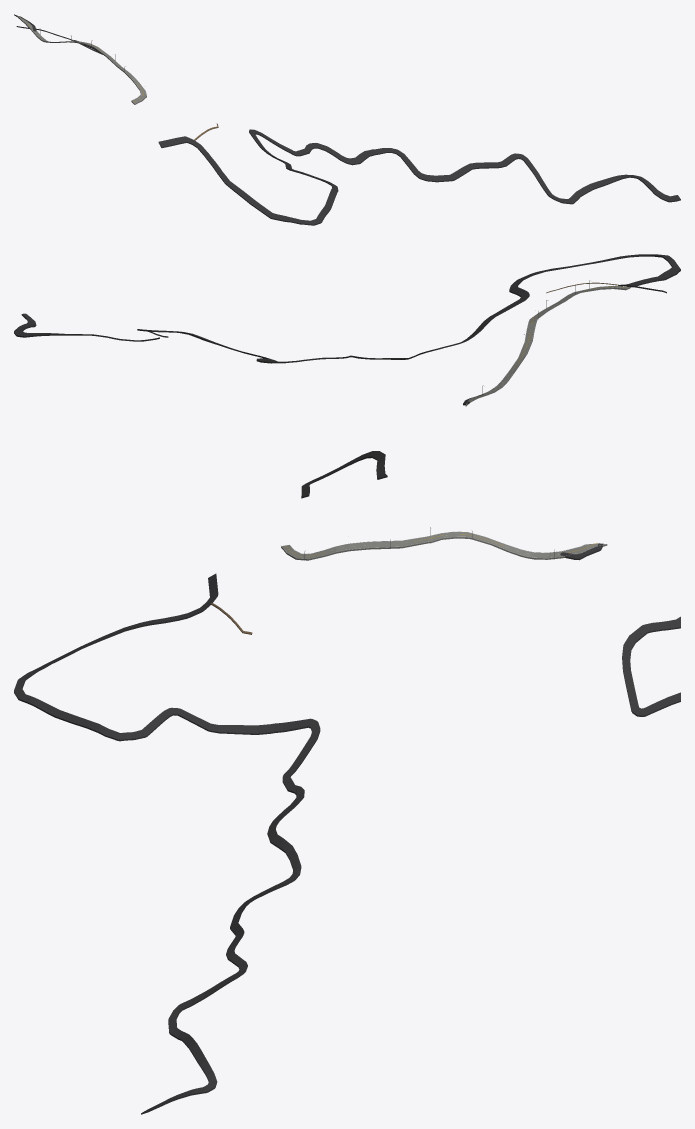
3 views of the same model, one above another, from view 1: azimuth 30°, elevation 25°; view 2: azimuth 150°, elevation 25°; view 3: azimuth 270°, elevation 25° (orthographic). The views are drawn at different scales.
Size of the model in its own units: 589 by 227 by 506.
